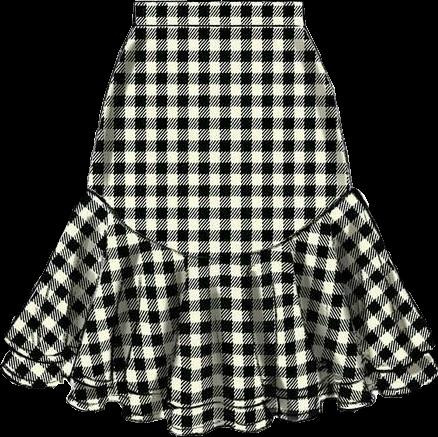Hemline: (1, 335, 437, 412), (0, 367, 437, 434)
Waistline: (87, 184, 353, 260), (132, 22, 307, 30), (135, 0, 304, 4)
